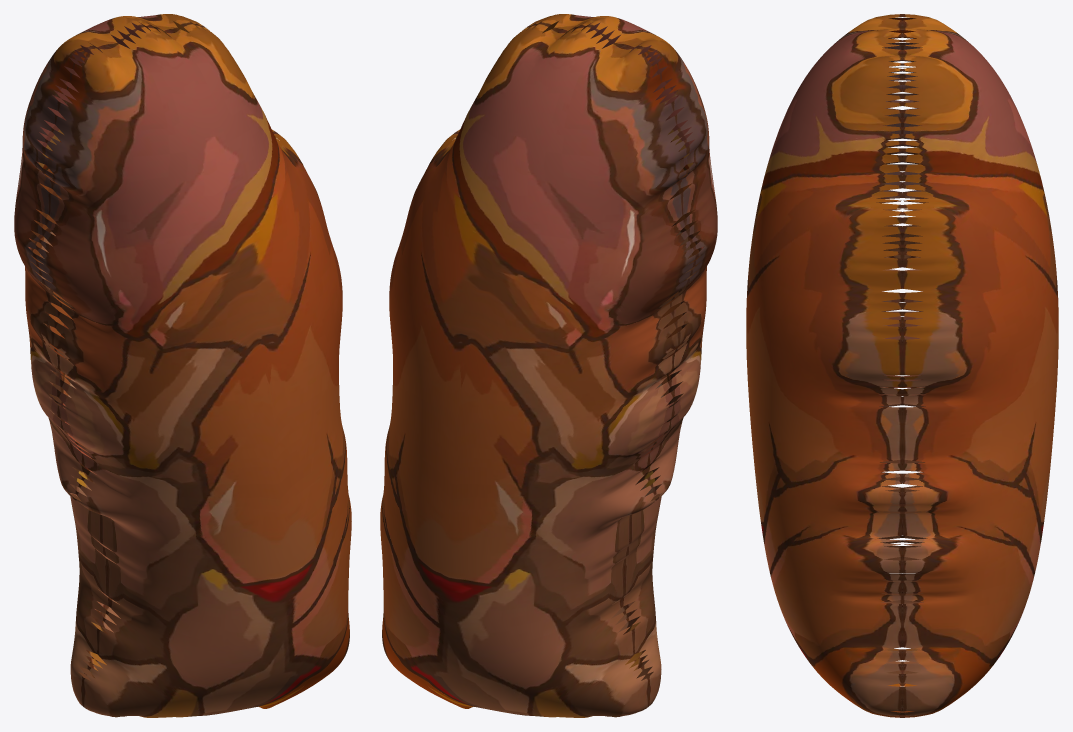
The model's file is cliff_section.glb.
3 renders of one model, left to right at view 1: azimuth 30°, elevation 25°; view 2: azimuth 150°, elevation 25°; view 3: azimuth 270°, elevation 25°, orthographic. The views are drawn at different scales.
Visible parts, largest first — view 1: cliff_section; view 2: cliff_section; view 3: cliff_section.
Boxes of the visible parts, x1=… form: cliff_section: x1=14, y1=14, x2=351, y2=717; cliff_section: x1=380, y1=14, x2=717, y2=717; cliff_section: x1=746, y1=14, x2=1058, y2=717.
Bounding box in the file's own units: 0.9756 × 2.16 × 0.9761.
1 material, 1 textured.
